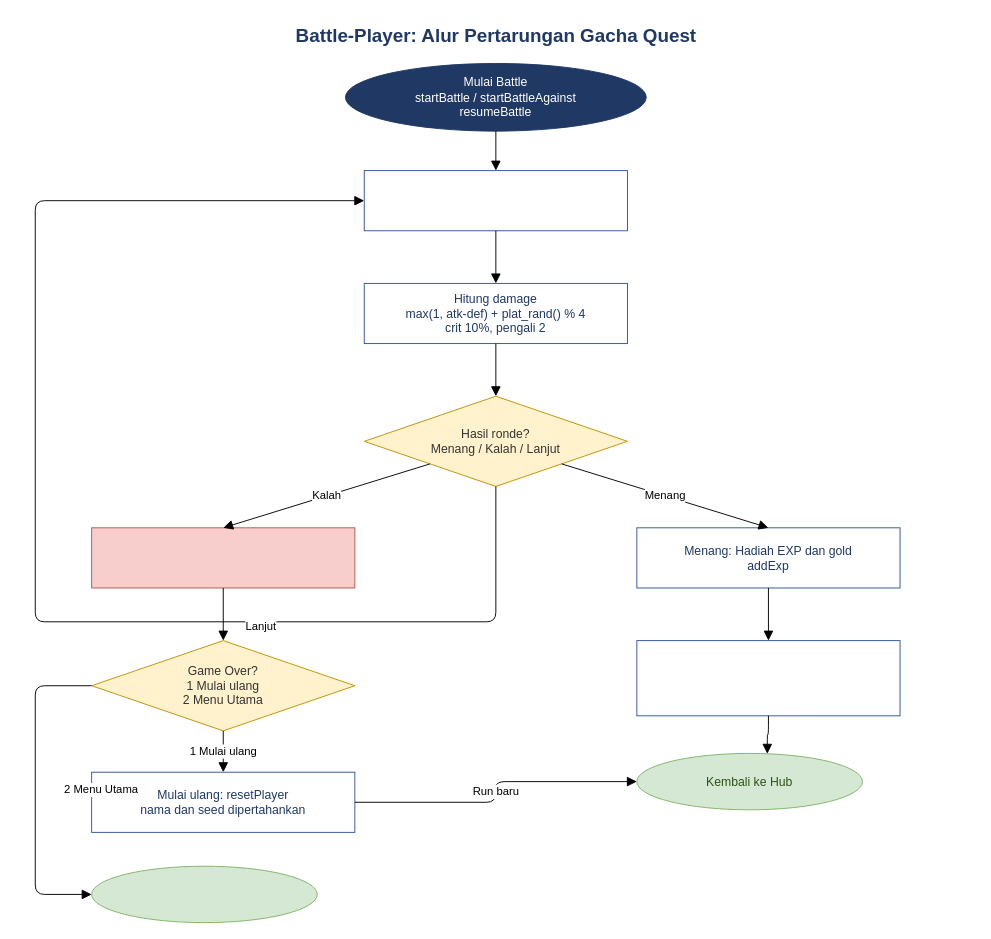
This 991x939 diagram has some shape labels left out. Each missing label, with the box of its shape:
Kalah: Game Over battleGameOverScreen: (91, 527, 355, 588)
Menu Utama: (91, 865, 317, 923)
Naik level butuh level*50 EXP maxHp+15, atk+2, def+1, hp=maxHp MAX_LEVEL 10: (636, 640, 900, 716)
Pilih aksi Serang / Bertahan / Potion / Kabur: (363, 170, 627, 231)
